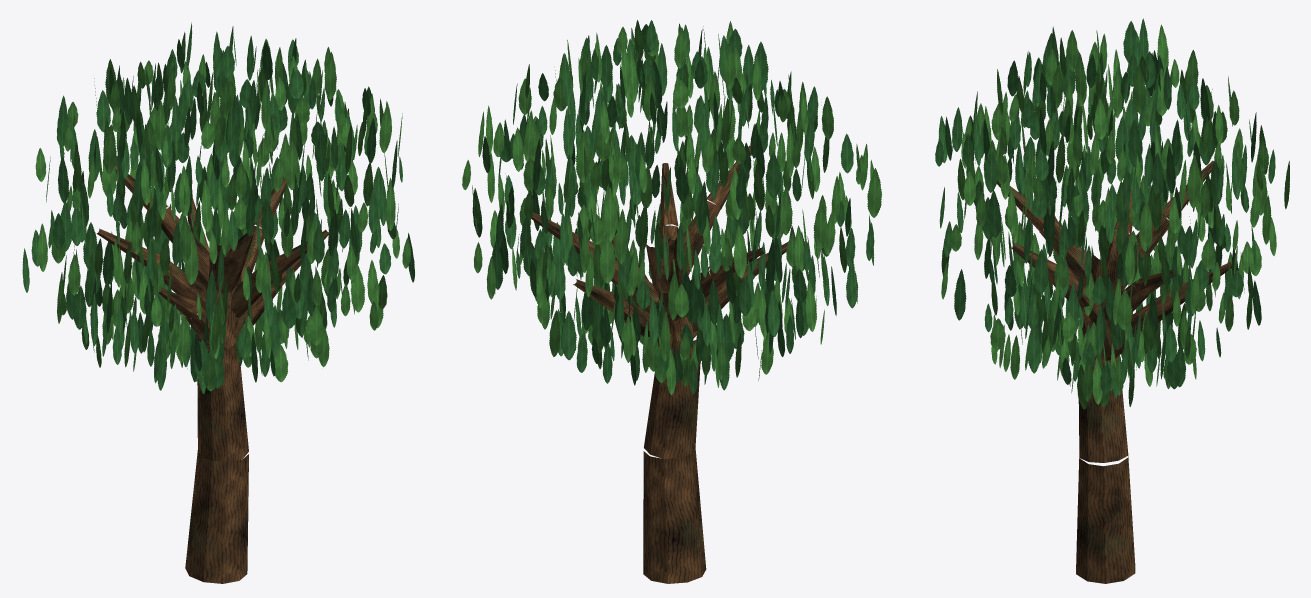
The model's file is oak_tree.glb.
3 views of the same model, side by side, from view 1: azimuth 30°, elevation 25°; view 2: azimuth 150°, elevation 25°; view 3: azimuth 270°, elevation 25° (orthographic). The views are drawn at different scales.
Parts seen in each view (by area): view 1: oak translucent leaf sprays 0, oak translucent leaf sprays 1, oak sculpted bark; view 2: oak translucent leaf sprays 1, oak translucent leaf sprays 0, oak sculpted bark; view 3: oak translucent leaf sprays 1, oak translucent leaf sprays 0, oak sculpted bark.
Part boxes in pixels (x1,y1,x2,y2): oak translucent leaf sprays 0: [22, 22, 414, 394]; oak translucent leaf sprays 1: [35, 26, 410, 391]; oak sculpted bark: [97, 164, 328, 583]; oak translucent leaf sprays 1: [462, 20, 881, 394]; oak translucent leaf sprays 0: [472, 20, 874, 394]; oak sculpted bark: [524, 145, 787, 583]; oak translucent leaf sprays 1: [941, 24, 1289, 409]; oak translucent leaf sprays 0: [935, 18, 1275, 398]; oak sculpted bark: [996, 160, 1231, 583].
Size of the model in its own units: 4.35 by 5.79 by 3.7.
3 materials, 3 textured.
